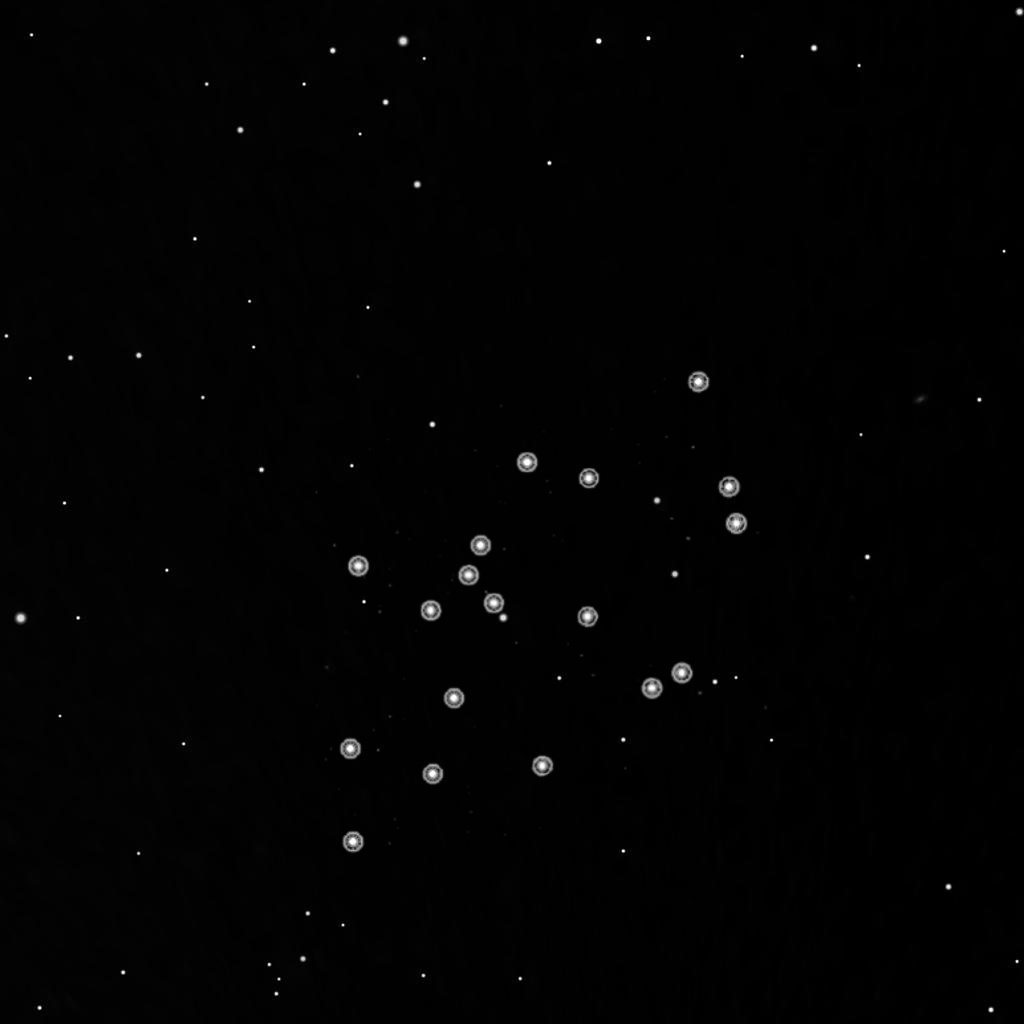canis_major: (417, 449, 605, 626)
